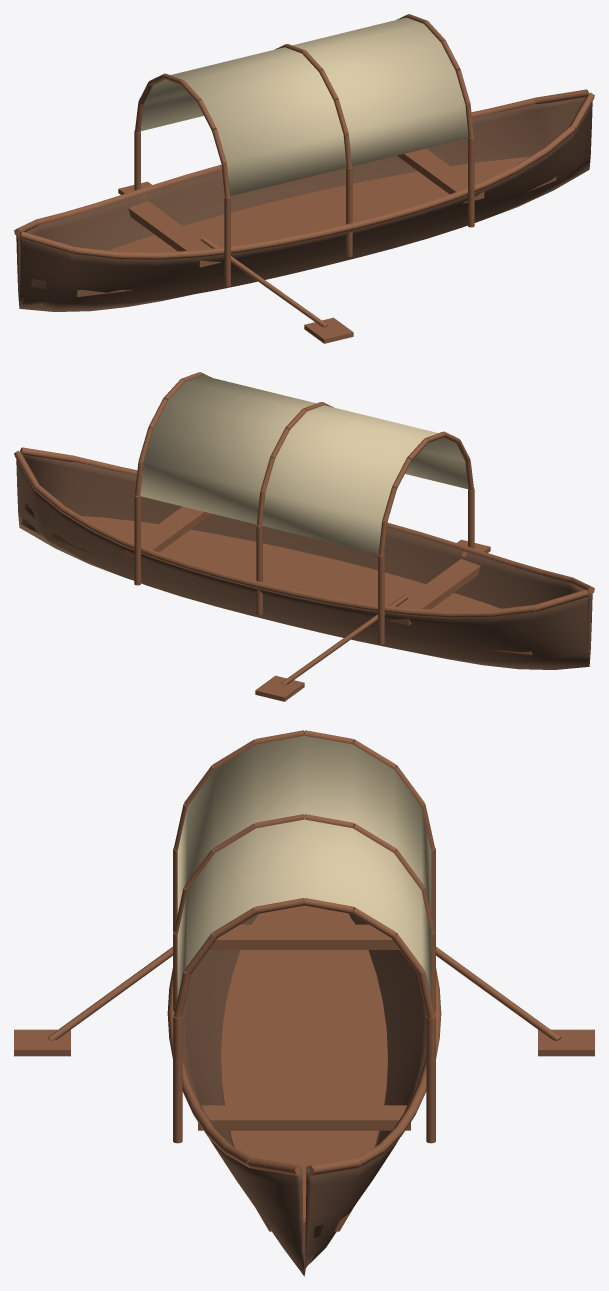
File: covered-lod2.glb
3 views of the same model, one above another, from view 1: azimuth 30°, elevation 25°; view 2: azimuth 150°, elevation 25°; view 3: azimuth 270°, elevation 25° (orthographic). The views are drawn at different scales.
Visible parts, largest first — view 1: covered.hull, covered.cloth, covered.wood; view 2: covered.hull, covered.cloth, covered.wood; view 3: covered.wood, covered.cloth, covered.hull.
Boxes of the visible parts, x1,y1,x2,y2 form: covered.hull: [16, 91, 592, 311]; covered.cloth: [140, 17, 468, 196]; covered.wood: [14, 14, 594, 343]; covered.hull: [16, 449, 592, 669]; covered.cloth: [140, 375, 468, 554]; covered.wood: [14, 372, 594, 701]; covered.wood: [14, 730, 594, 1231]; covered.cloth: [177, 734, 431, 997]; covered.hull: [182, 913, 426, 1276].
Bounding box in the file's own units: 6.24 × 2.26 × 3.88.
